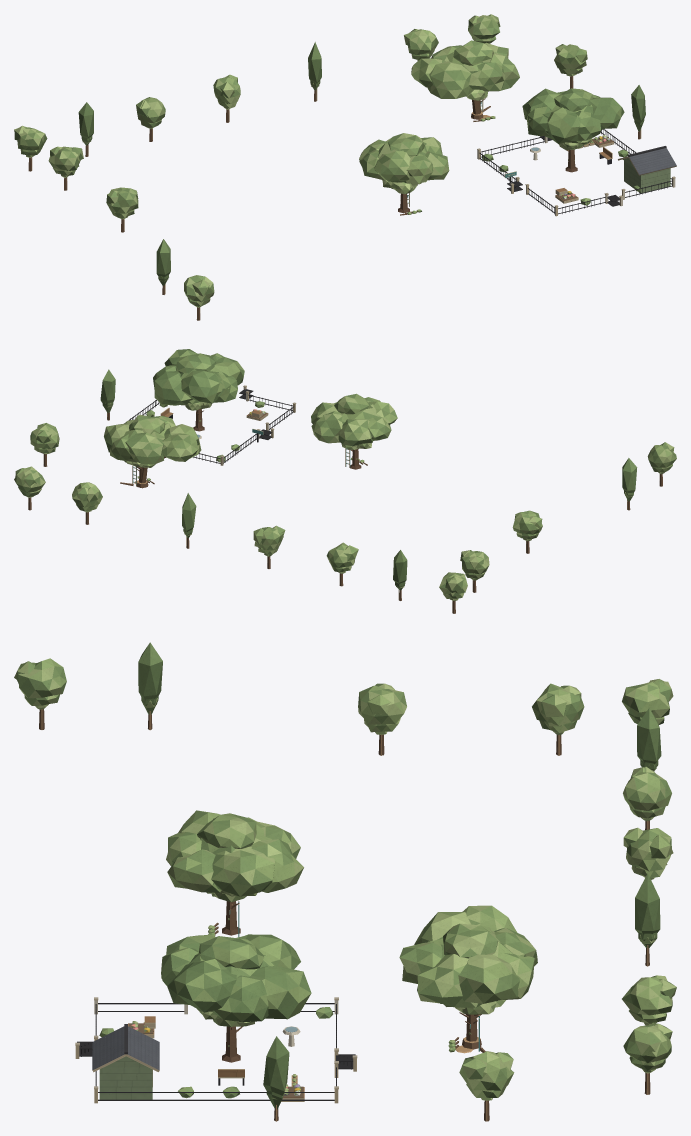
The model's file is trees.glb.
3 renders of one model, top to bottom at view 1: azimuth 30°, elevation 25°; view 2: azimuth 150°, elevation 25°; view 3: azimuth 270°, elevation 25°, orthographic. The views are drawn at different scales.
Parts seen in each view (by area): view 1: garden__shed__mesh, fence__garden__iron, oak__yard_2026_full__seg5, oak__garden_2026_full__seg5, oak__square_2026_full__seg5, oak__yard_2026_full__seg6, oak__garden_2026_full__seg7, oak__yard_2026_full__seg8, trees__2026__c9, trees__2026__c12, trees__2026__c11, trees__2026__c5 (+16 smaller); view 2: oak__garden_2026_full__seg3, fence__garden__iron, oak__yard_2026_full__seg3, oak__garden_2026_full__seg2, oak__yard_2026_full__seg4, oak__square_2026_full__seg2, oak__square_2026_full__seg3, trees__2026__c9, trees__2026__c3, oak__garden_2026_full__seg8, trees__2026__c6, trees__2026__c5 (+16 smaller); view 3: garden__shed__mesh, oak__garden_2026_full__seg7, oak__square_2026_full__seg1, oak__yard_2026_full__seg1, fence__garden__iron, oak__garden_2026_full__seg2, oak__yard_2026_full__seg7, oak__garden_2026_full__seg1, trees__2026__c3, trees__2026__c9, trees__2026__c12, trees__2026__c11 (+23 smaller).
Boxes of the visible parts, x1=… form: garden__shed__mesh: x1=618, y1=146, x2=676, y2=193; fence__garden__iron: x1=477, y1=129, x2=675, y2=216; oak__yard_2026_full__seg5: x1=427, y1=61, x2=473, y2=98; oak__garden_2026_full__seg5: x1=547, y1=107, x2=582, y2=143; oak__square_2026_full__seg5: x1=374, y1=151, x2=410, y2=181; oak__yard_2026_full__seg6: x1=468, y1=62, x2=505, y2=90; oak__garden_2026_full__seg7: x1=590, y1=97, x2=624, y2=129; oak__yard_2026_full__seg8: x1=453, y1=40, x2=493, y2=65; trees__2026__c9: x1=554, y1=44, x2=587, y2=69; trees__2026__c12: x1=106, y1=187, x2=138, y2=213; trees__2026__c11: x1=48, y1=146, x2=83, y2=170; trees__2026__c5: x1=404, y1=29, x2=438, y2=54; oak__garden_2026_full__seg3: x1=181, y1=370, x2=229, y2=403; fence__garden__iron: x1=124, y1=385, x2=296, y2=465; oak__yard_2026_full__seg3: x1=125, y1=432, x2=163, y2=464; oak__garden_2026_full__seg2: x1=154, y1=371, x2=192, y2=405; oak__yard_2026_full__seg4: x1=162, y1=433, x2=198, y2=461; oak__square_2026_full__seg2: x1=311, y1=411, x2=342, y2=443; oak__square_2026_full__seg3: x1=338, y1=419, x2=373, y2=446; trees__2026__c9: x1=30, y1=423, x2=59, y2=448; trees__2026__c3: x1=253, y1=525, x2=285, y2=549; oak__garden_2026_full__seg8: x1=178, y1=353, x2=215, y2=373; trees__2026__c6: x1=14, y1=466, x2=45, y2=492; trees__2026__c5: x1=72, y1=482, x2=102, y2=507; garden__shed__mesh: x1=92, y1=1024, x2=159, y2=1099; oak__garden_2026_full__seg7: x1=167, y1=959, x2=236, y2=1012; oak__square_2026_full__seg1: x1=211, y1=846, x2=274, y2=896; oak__yard_2026_full__seg1: x1=458, y1=954, x2=519, y2=1003; fence__garden__iron: x1=75, y1=997, x2=357, y2=1103; oak__garden_2026_full__seg2: x1=250, y1=966, x2=311, y2=1019; oak__yard_2026_full__seg7: x1=417, y1=954, x2=482, y2=1007; oak__garden_2026_full__seg1: x1=213, y1=975, x2=268, y2=1022; trees__2026__c3: x1=623, y1=827, x2=673, y2=871; trees__2026__c9: x1=459, y1=1051, x2=514, y2=1090; trees__2026__c12: x1=358, y1=683, x2=406, y2=724; trees__2026__c11: x1=532, y1=683, x2=584, y2=725.
Bounding box in the file's own units: 32.46 × 4.43 × 22.05.
7 materials, 7 textured.
